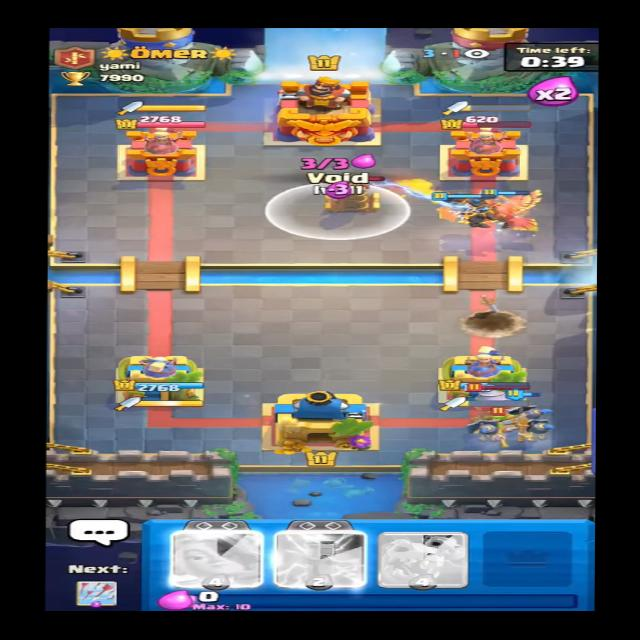goblin-drill: (465, 381, 534, 424)
tesla: (310, 173, 391, 215)
